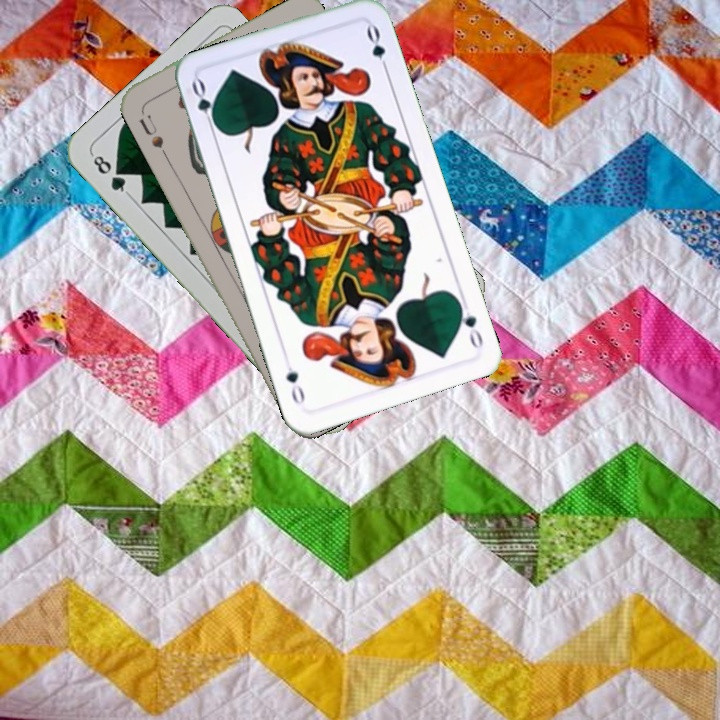G8: (87, 150, 132, 198)
GO: (187, 75, 222, 134), (453, 295, 486, 352)
SU: (134, 104, 167, 151)
